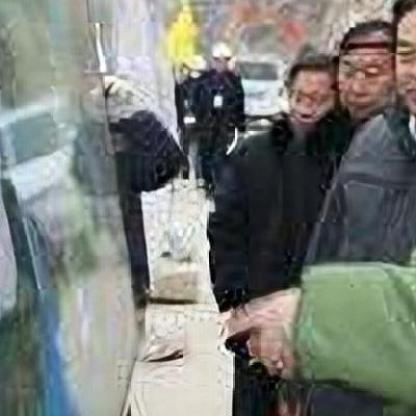hardHat: (327, 9, 410, 122), (274, 44, 346, 139), (2, 0, 2, 1)
